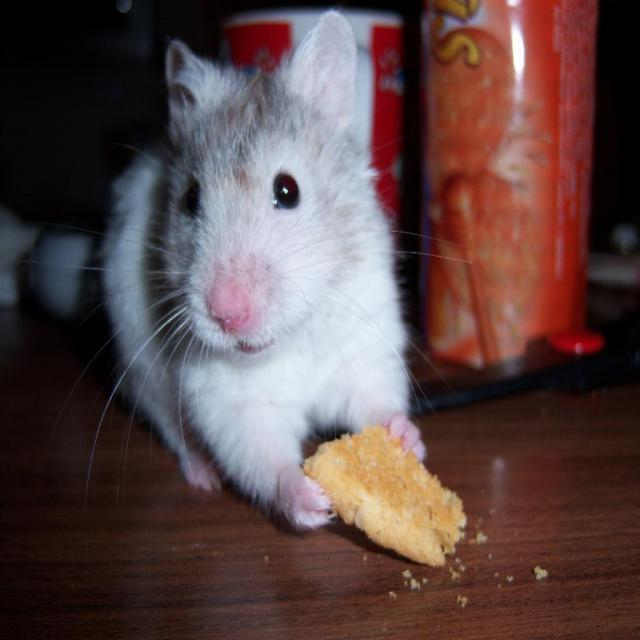rat: (95, 11, 428, 530)
